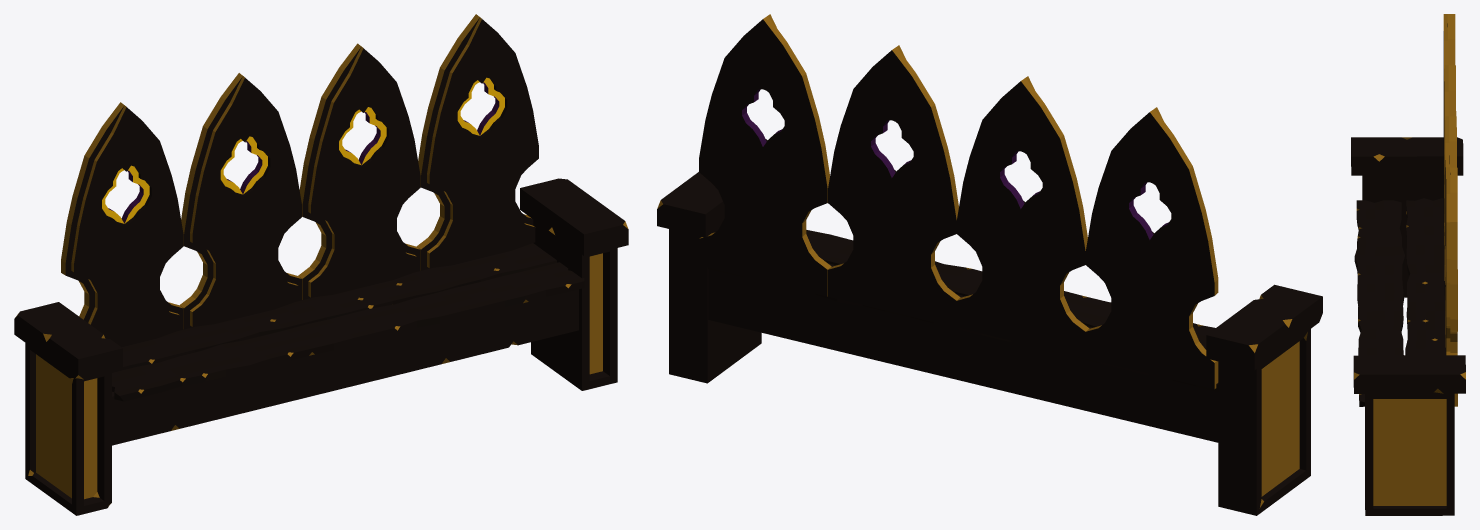
The model's file is Bank.obj.
The picture shows the model from 3 angles, left to right: view 1: azimuth 30°, elevation 25°; view 2: azimuth 150°, elevation 25°; view 3: azimuth 270°, elevation 25°; orthographic projection. The views are drawn at different scales.
Parts seen in each view (by area): view 1: Bank; view 2: Bank; view 3: Bank.
Boxes of the visible parts, box(x1,y1,x2,y2) form: Bank: box(14, 14, 628, 515); Bank: box(657, 14, 1322, 515); Bank: box(1351, 14, 1465, 515).
Size of the model in its own units: 2.89 by 1.76 by 0.5901.
